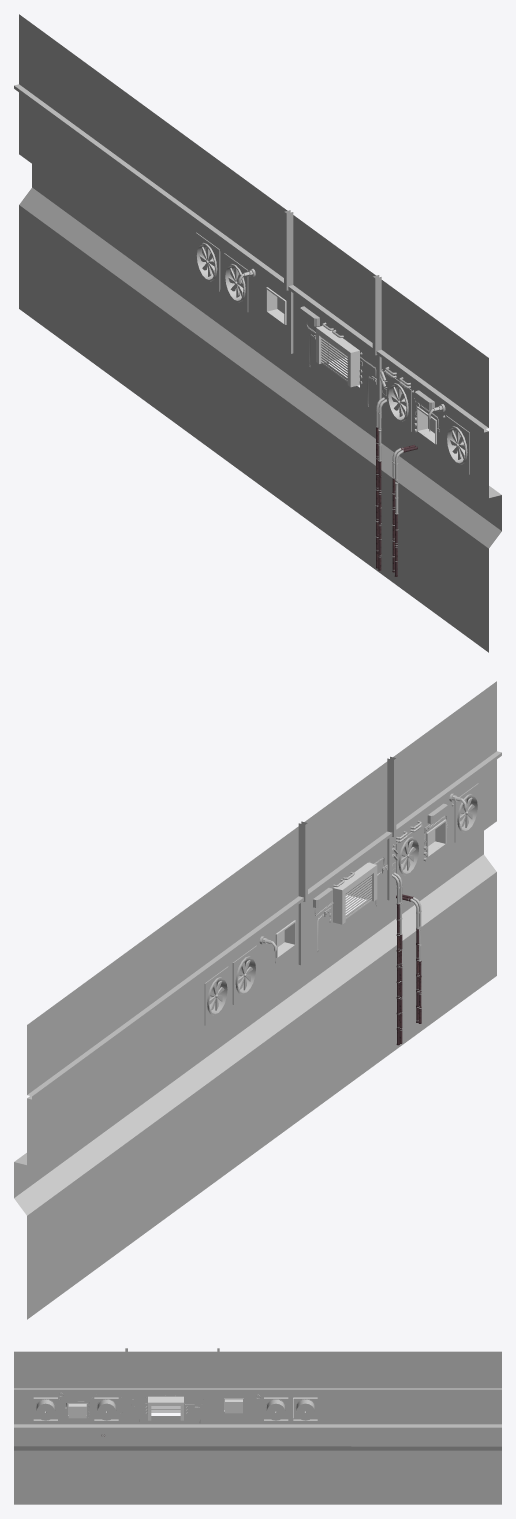
File: Wall.fbx
The picture shows the model from 3 angles, top to bottom: view 1: azimuth 30°, elevation 25°; view 2: azimuth 150°, elevation 25°; view 3: azimuth 270°, elevation 25°; orthographic projection. The views are drawn at different scales.
Visible parts, largest first — view 1: Wall_Part3, Wall_Part1, Wall_Part2, Wall_Column, Small_Tube003, Final Door Frame, Wal_Set_Props, Wall_Fan011, Wall_Fan008, Wall_Fan009, Wall_Fan010, Final Door001; view 2: Wall_Part3, Wall_Part1, Wall_Part2, Wall_Column, Final Door Frame, Small_Tube003, Wal_Set_Props, Wall_Fan011, Wall_Fan010, Wall_Fan008, Wall_Fan009, Final Door001; view 3: Wall_Part3, Wall_Part1, Wall_Part2, Wall_Fan008, Wall_Fan009, Wall_Fan010, Wall_Fan011, Final Door Frame, Wall Doors 001, Wall Doors 002, Final Door001.
Boxes of the visible parts, box(x1,y1,x2,y2) form: Wall_Part3: box(14, 14, 304, 507); Wall_Part1: box(376, 280, 501, 652); Wall_Part2: box(288, 215, 393, 572); Wall_Column: box(284, 210, 381, 417); Small_Tube003: box(376, 427, 417, 576); Final Door Frame: box(316, 326, 359, 387); Wal_Set_Props: box(238, 268, 445, 432); Wall_Fan011: box(195, 232, 220, 291); Wall_Fan008: box(445, 415, 469, 474); Wall_Fan009: box(387, 375, 411, 431); Wall_Fan010: box(224, 253, 248, 312); Final Door001: box(321, 337, 347, 381); Wall_Part3: box(14, 826, 303, 1319); Wall_Part1: box(375, 681, 501, 1054); Wall_Part2: box(286, 761, 392, 1120); Wall_Column: box(298, 756, 396, 965); Final Door Frame: box(333, 862, 377, 924); Small_Tube003: box(396, 894, 421, 1045); Wal_Set_Props: box(259, 793, 466, 963); Wall_Fan011: box(204, 966, 228, 1025); Wall_Fan010: box(232, 945, 256, 1004); Wall_Fan008: box(454, 783, 478, 842); Wall_Fan009: box(396, 828, 420, 885); Final Door001: box(345, 874, 371, 919); Wall_Part3: box(218, 1351, 501, 1504); Wall_Part1: box(14, 1351, 126, 1504); Wall_Part2: box(126, 1351, 219, 1504); Wall_Fan008: box(33, 1397, 57, 1420); Wall_Fan009: box(94, 1397, 118, 1420); Wall_Fan010: box(264, 1397, 288, 1420); Wall_Fan011: box(293, 1397, 317, 1420); Final Door Frame: box(148, 1396, 183, 1420); Wall Doors 001: box(68, 1403, 87, 1418); Wall Doors 002: box(224, 1398, 243, 1413); Final Door001: box(151, 1405, 180, 1412).
Bounding box in the file's own units: 14.15 × 297 × 104.
